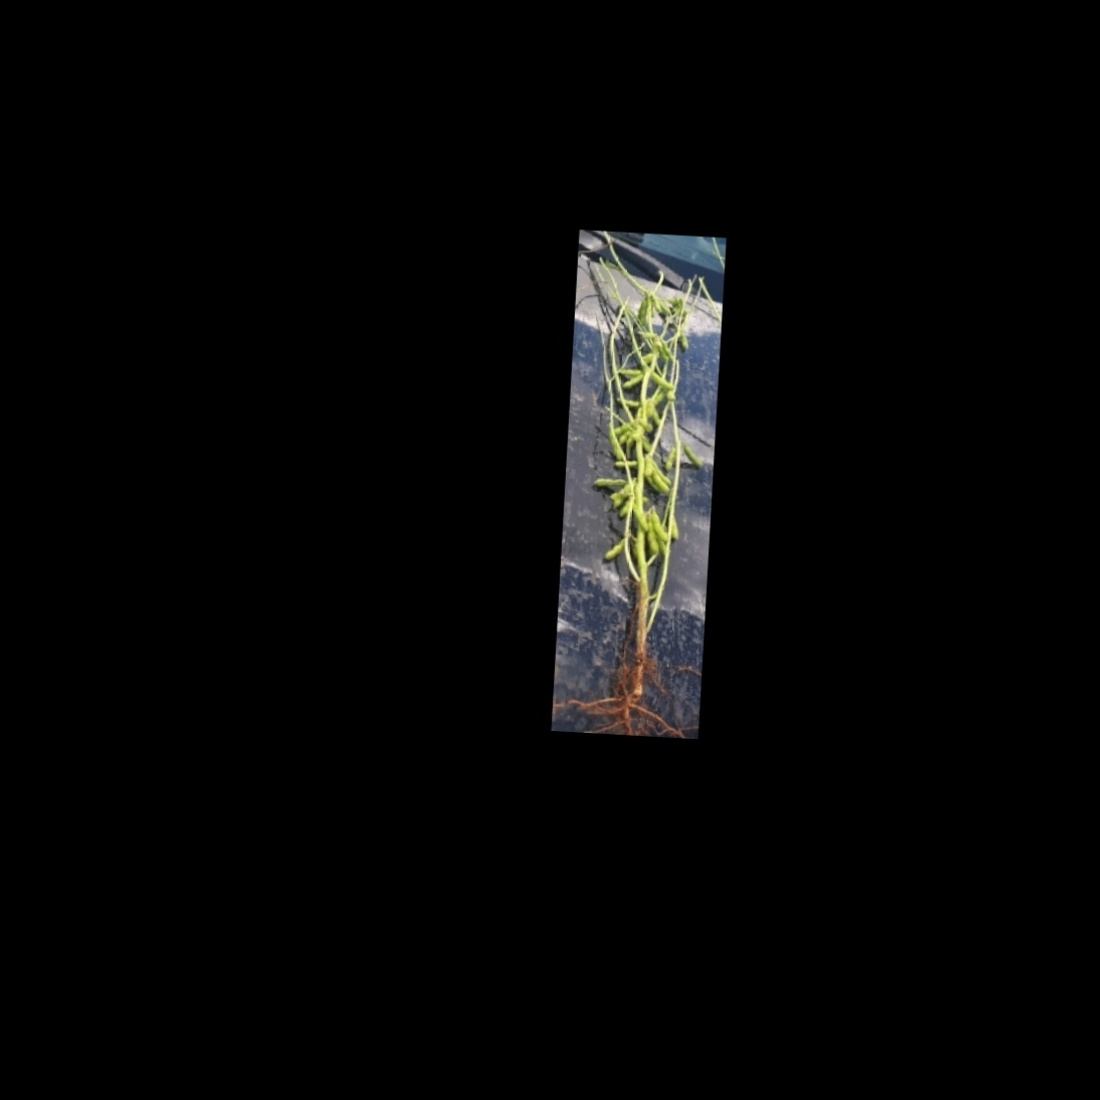pod: (644, 367, 678, 392), (647, 510, 671, 543), (618, 368, 648, 395), (679, 444, 706, 470), (642, 519, 661, 555), (602, 534, 626, 563), (589, 473, 628, 490), (635, 327, 659, 343), (676, 326, 691, 352)
soy: (565, 269, 717, 708)
